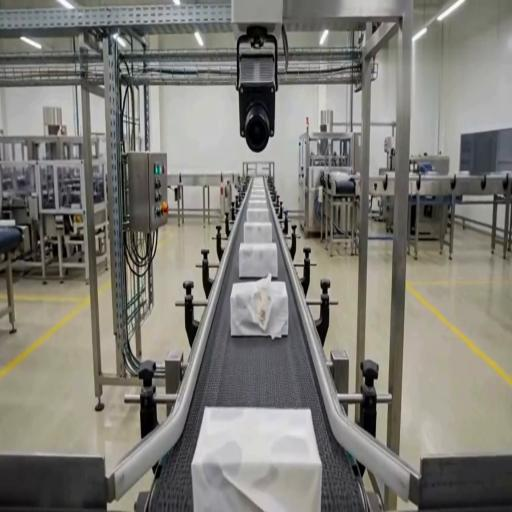defective: (193, 404, 320, 512), (230, 276, 288, 338)
good: (238, 241, 278, 281), (242, 221, 272, 245), (245, 207, 270, 226), (248, 180, 268, 194)
